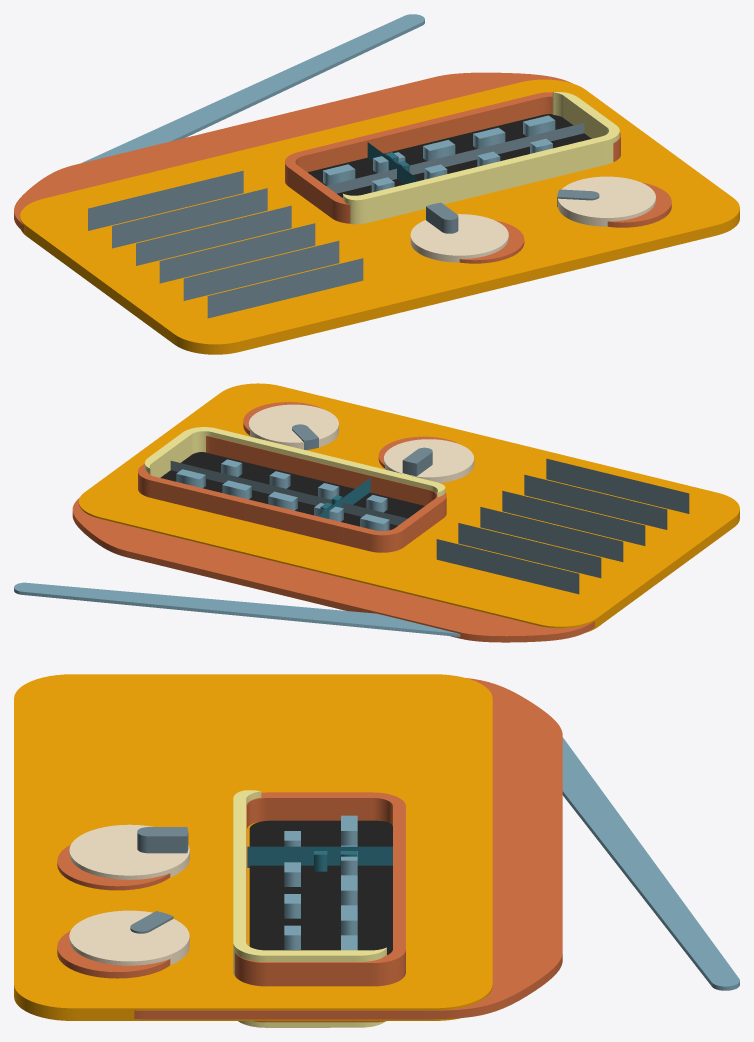
The model's file is emoji_u1f4fb.glb.
3 views of the same model, one above another, from view 1: azimuth 30°, elevation 25°; view 2: azimuth 150°, elevation 25°; view 3: azimuth 270°, elevation 25° (orthographic). The views are drawn at different scales.
Parts seen in each view (by area): view 1: emoji_u1f4fb; view 2: emoji_u1f4fb; view 3: emoji_u1f4fb.
Part boxes in pixels (bbox=[...]): emoji_u1f4fb: bbox=[14, 14, 739, 354]; emoji_u1f4fb: bbox=[14, 383, 739, 642]; emoji_u1f4fb: bbox=[14, 674, 739, 1027].
Bounding box in the file's own units: 0.0338 × 0.0034 × 0.0311.
